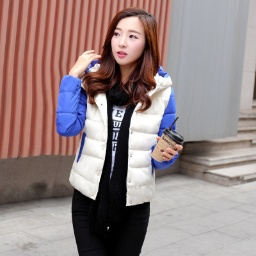face: (85, 6, 166, 100)
